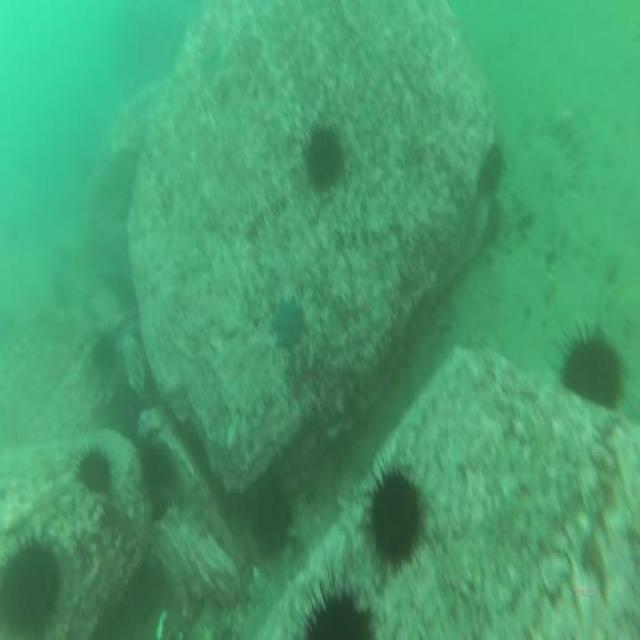echinus: (5, 545, 59, 629), (372, 474, 419, 566), (564, 337, 624, 406), (306, 594, 372, 640), (254, 487, 290, 550), (308, 126, 341, 182), (476, 142, 506, 199), (140, 447, 174, 490), (78, 452, 110, 493), (92, 332, 118, 374)
starfish: (273, 302, 302, 351)
